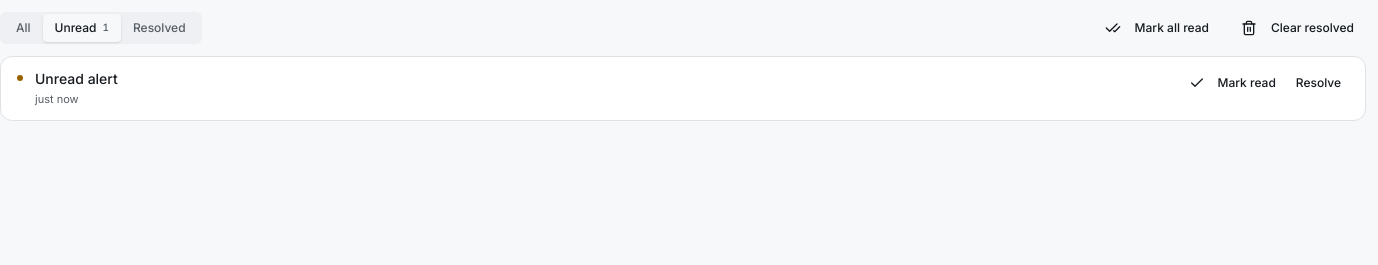
Test: NotificationsList › switches between all, unread, and resolved filters
The width and height of the screenshot is (1378, 265).
Click the tab "All": (23, 28) x1=4 y1=14 x2=43 y2=42
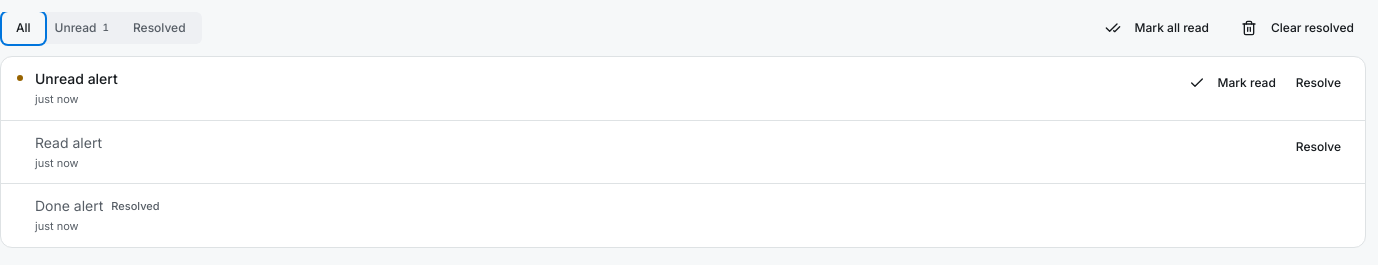
Result: the number of list items with test id "notification-row" is 3 at x1=1 y1=57 x2=1365 y2=120; x1=1 y1=120 x2=1365 y2=184; x1=35 y1=197 x2=160 y2=233
Click the tab "Resolved": (159, 28) x1=121 y1=14 x2=198 y2=42
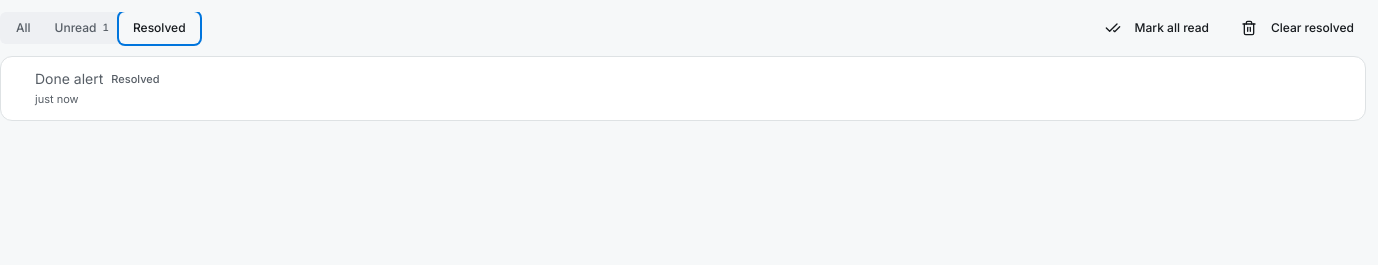
Result: the text "Done alert" is shown at x1=35 y1=69 x2=103 y2=89
Result: the text "Unread alert" is gone
Click the tab "Unread 1": (82, 28) x1=43 y1=14 x2=121 y2=42
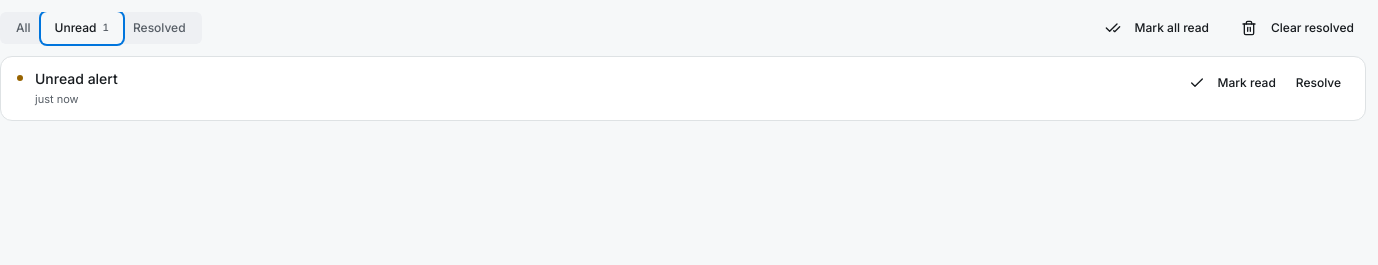
Result: the text "Unread alert" is shown at x1=35 y1=69 x2=118 y2=89
Result: the text "Done alert" is gone
